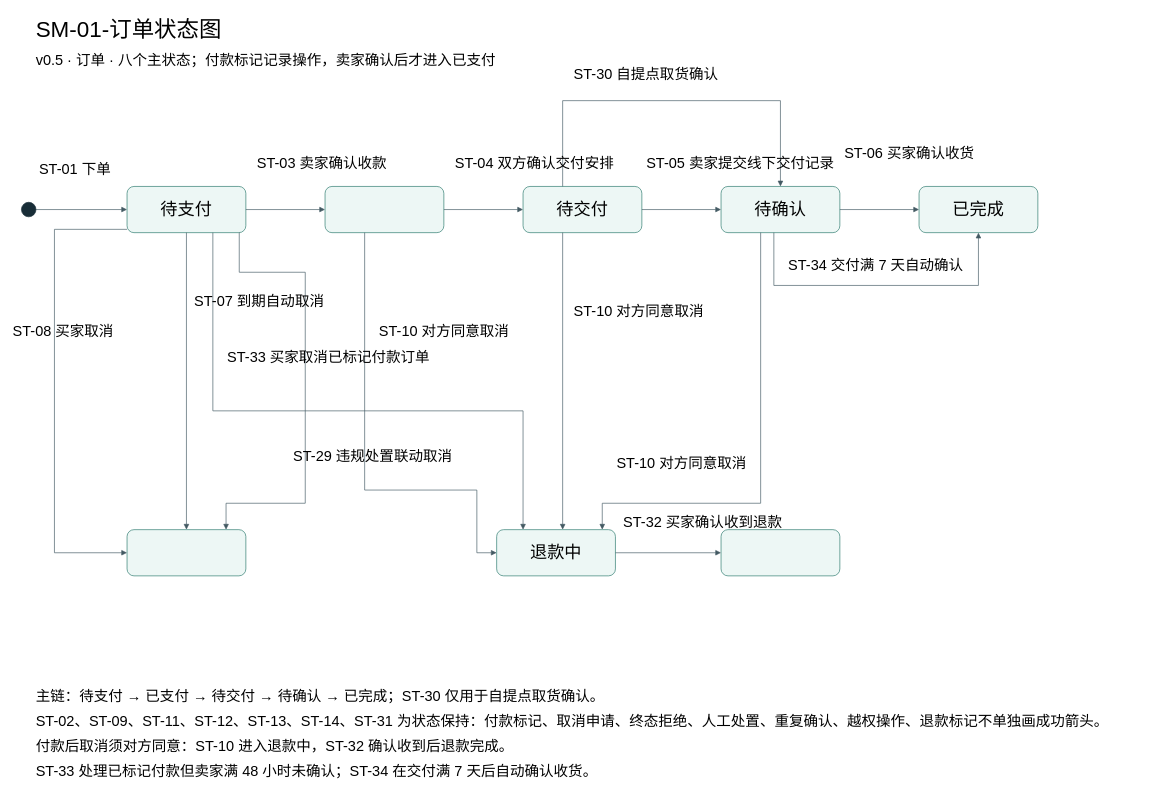
This 1171x793 diagram has some shape labels left out. Here are the shapes that lost their labels. From the top down, the box of each, then its label:
(324, 186, 444, 233): 已支付
(126, 529, 246, 576): 已取消
(720, 529, 840, 576): 已退款
